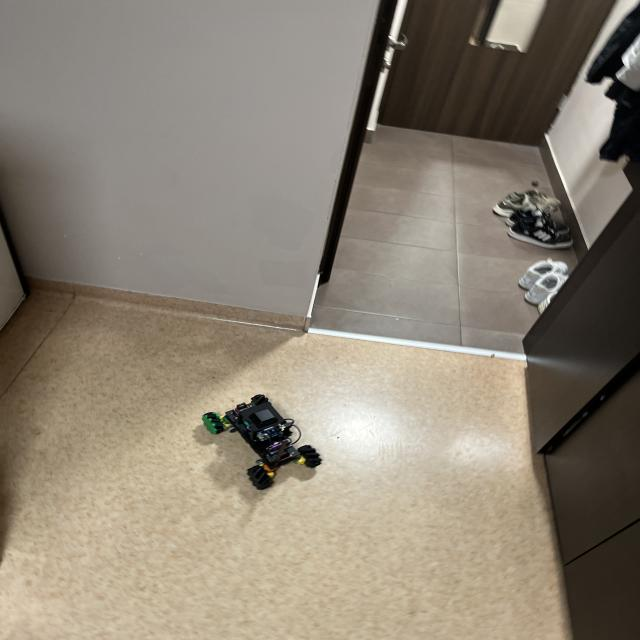robot: (202, 394, 321, 489)
